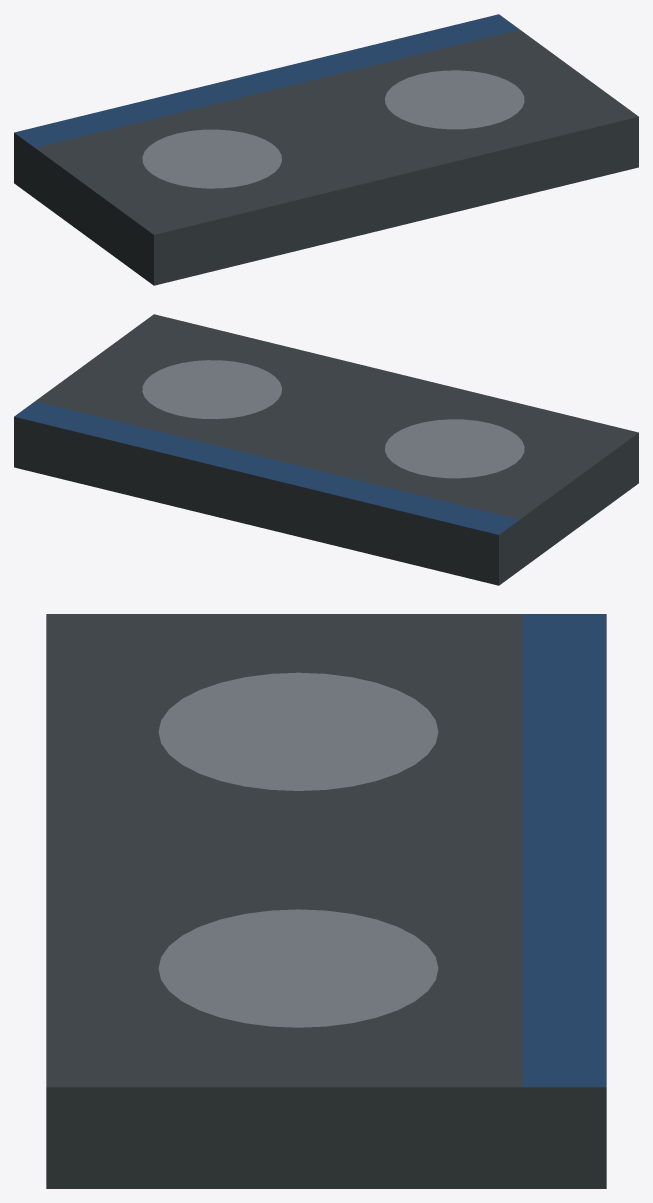
File: Security-cassette2.glb
3 views of the same model, one above another, from view 1: azimuth 30°, elevation 25°; view 2: azimuth 150°, elevation 25°; view 3: azimuth 270°, elevation 25° (orthographic). The views are drawn at different scales.
Visible parts, largest first — view 1: Cube, Circle, Cube.001; view 2: Cube, Circle, Cube.001; view 3: Cube, Circle, Cube.001.
Part boxes in pixels (left/top/right/bottom): Cube: left=14, top=29, right=638, bottom=285; Circle: left=142, top=70, right=524, bottom=188; Cube.001: left=14, top=14, right=519, bottom=147; Cube: left=14, top=314, right=638, bottom=585; Circle: left=142, top=360, right=524, bottom=478; Cube.001: left=14, top=401, right=519, bottom=534; Cube: left=46, top=614, right=606, bottom=1188; Circle: left=158, top=672, right=438, bottom=1027; Cube.001: left=522, top=614, right=606, bottom=1087.
Bounding box in the file's own units: 2 × 0.201 × 1.
